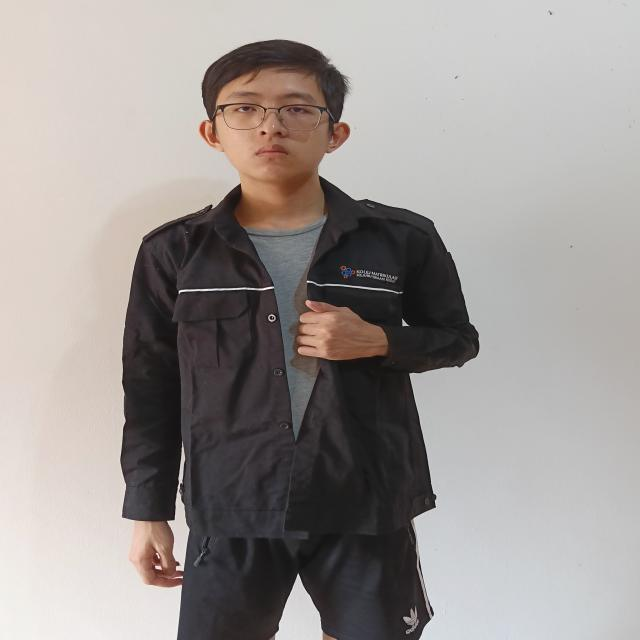person_with_labcoat: (121, 41, 478, 640)
